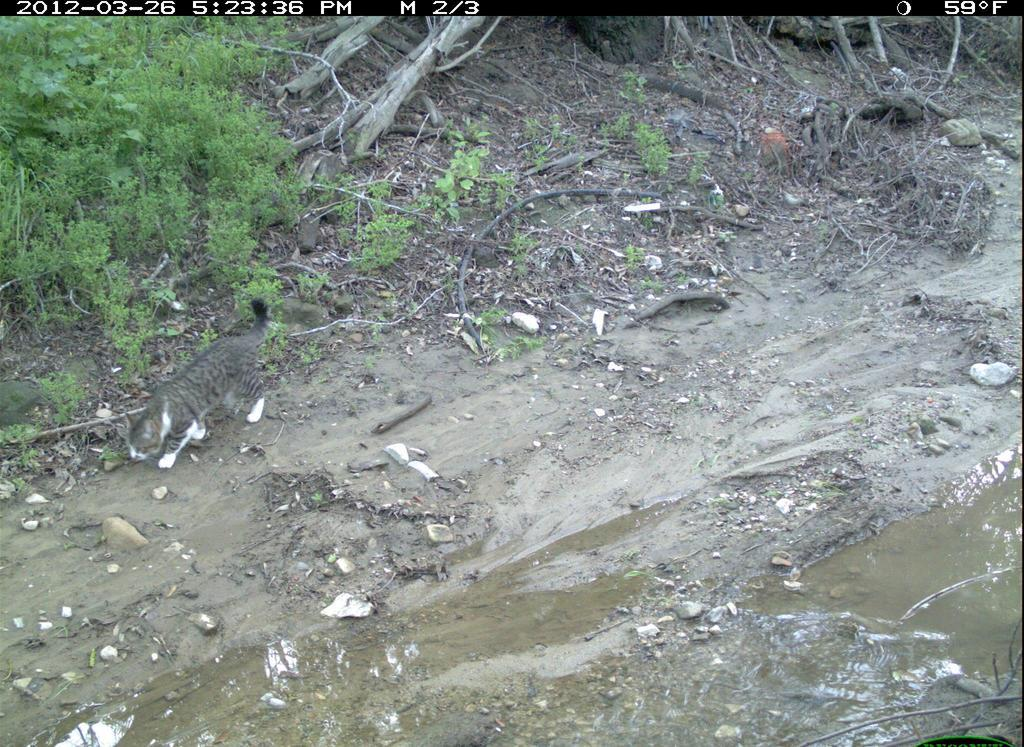cat: (109, 283, 277, 483)
